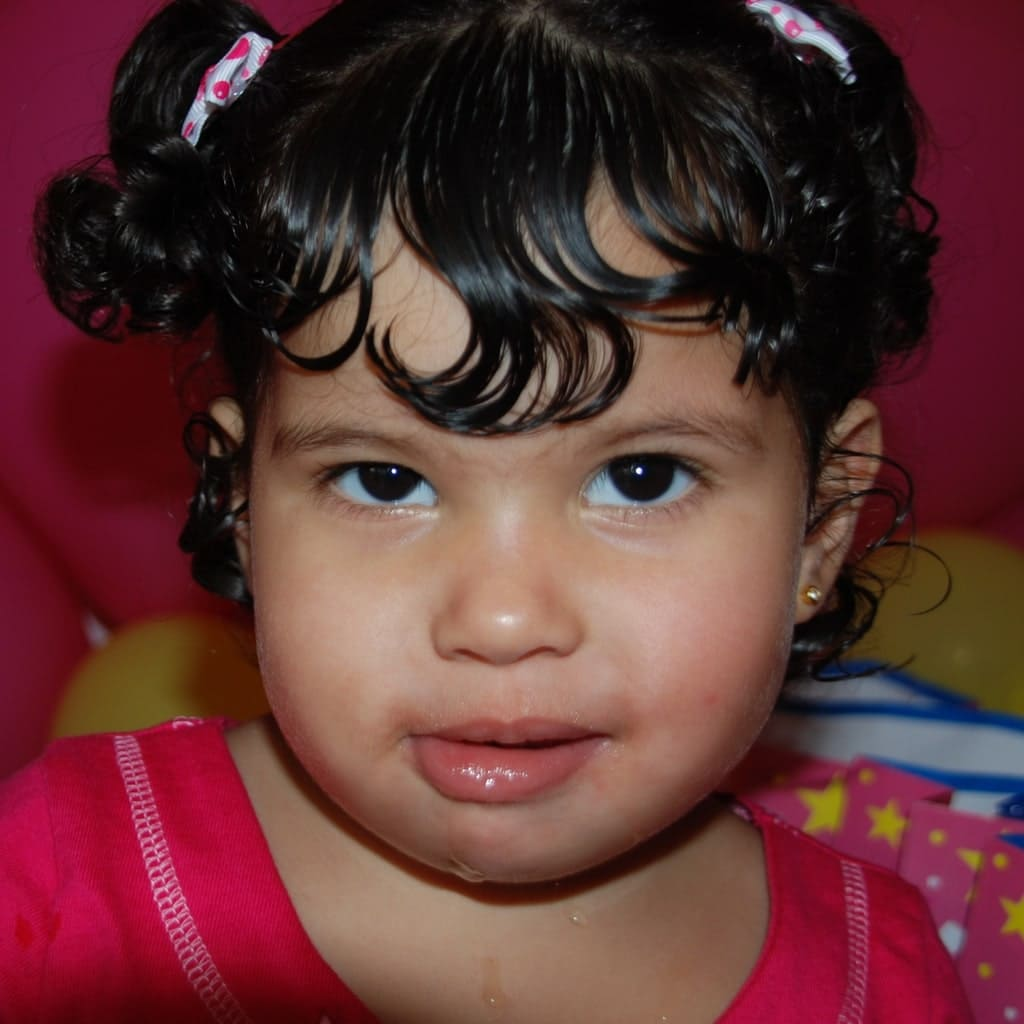without_mask: (255, 249, 821, 844)
